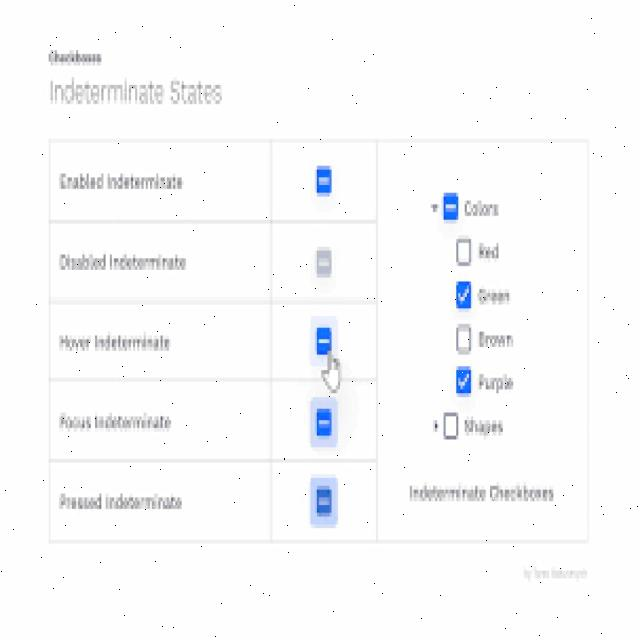checkbox: (308, 397, 339, 448), (311, 312, 337, 370), (308, 159, 343, 198), (309, 480, 337, 522), (311, 239, 337, 282), (456, 367, 472, 395), (457, 237, 471, 265), (455, 326, 471, 350), (456, 281, 470, 306), (445, 413, 456, 438)
dropdownMenu: (420, 404, 514, 450), (422, 188, 509, 228)
label: (48, 74, 226, 108), (53, 245, 191, 279), (52, 166, 192, 199), (405, 481, 559, 508), (56, 408, 175, 437), (55, 488, 186, 514), (56, 330, 176, 358), (47, 46, 103, 68), (463, 414, 507, 440), (476, 283, 517, 309), (478, 368, 516, 396), (478, 327, 516, 348), (477, 239, 504, 264)
